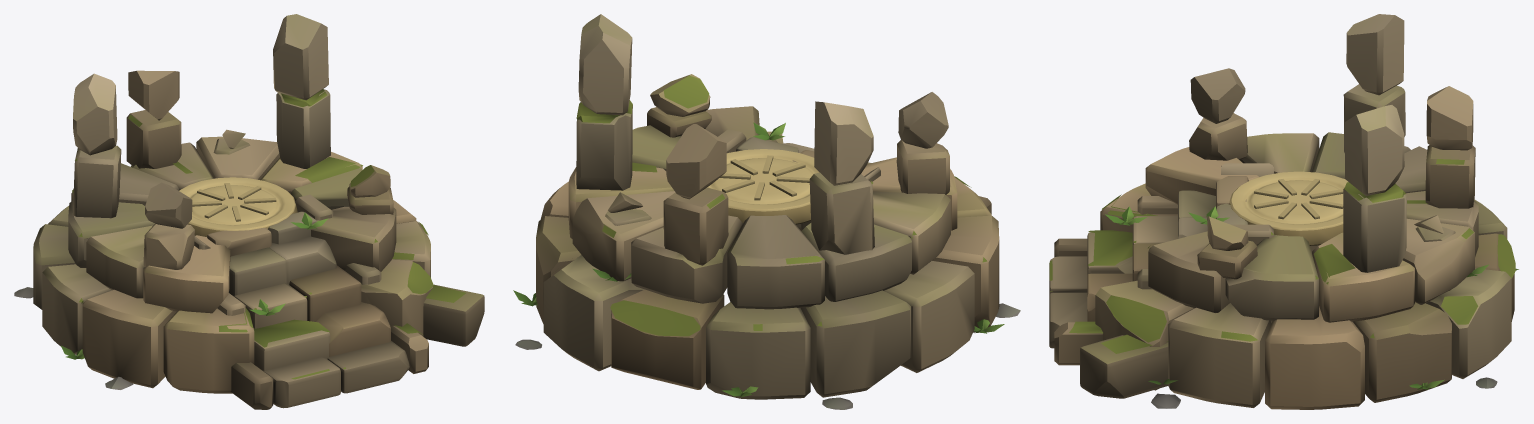
Rendered from building-oldFoundation.glb.
3 renders of one model, left to right at view 1: azimuth 30°, elevation 25°; view 2: azimuth 150°, elevation 25°; view 3: azimuth 270°, elevation 25°, orthographic. The views are drawn at different scales.
Parts seen in each view (by area): view 1: 0_oldFoundation; view 2: 0_oldFoundation; view 3: 0_oldFoundation.
Part boxes in pixels (x1=…): 0_oldFoundation: x1=14, y1=14, x2=484, y2=409; 0_oldFoundation: x1=513, y1=14, x2=1020, y2=409; 0_oldFoundation: x1=1049, y1=14, x2=1518, y2=409.
Bounding box in the file's own units: 1.81 × 1.18 × 1.86.
